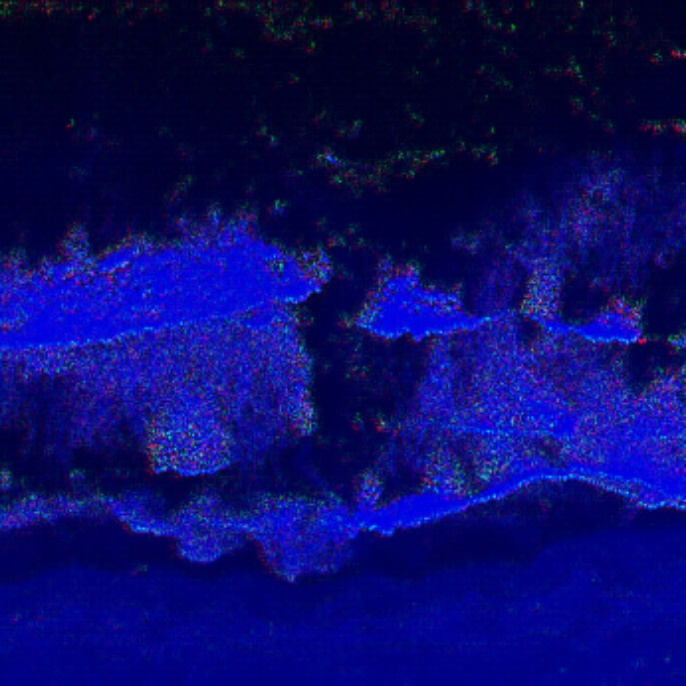rip_current: (256, 168, 456, 499)
